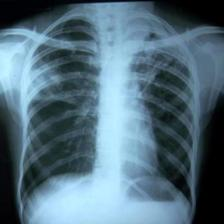tuberculosis: (15, 9, 201, 224)
